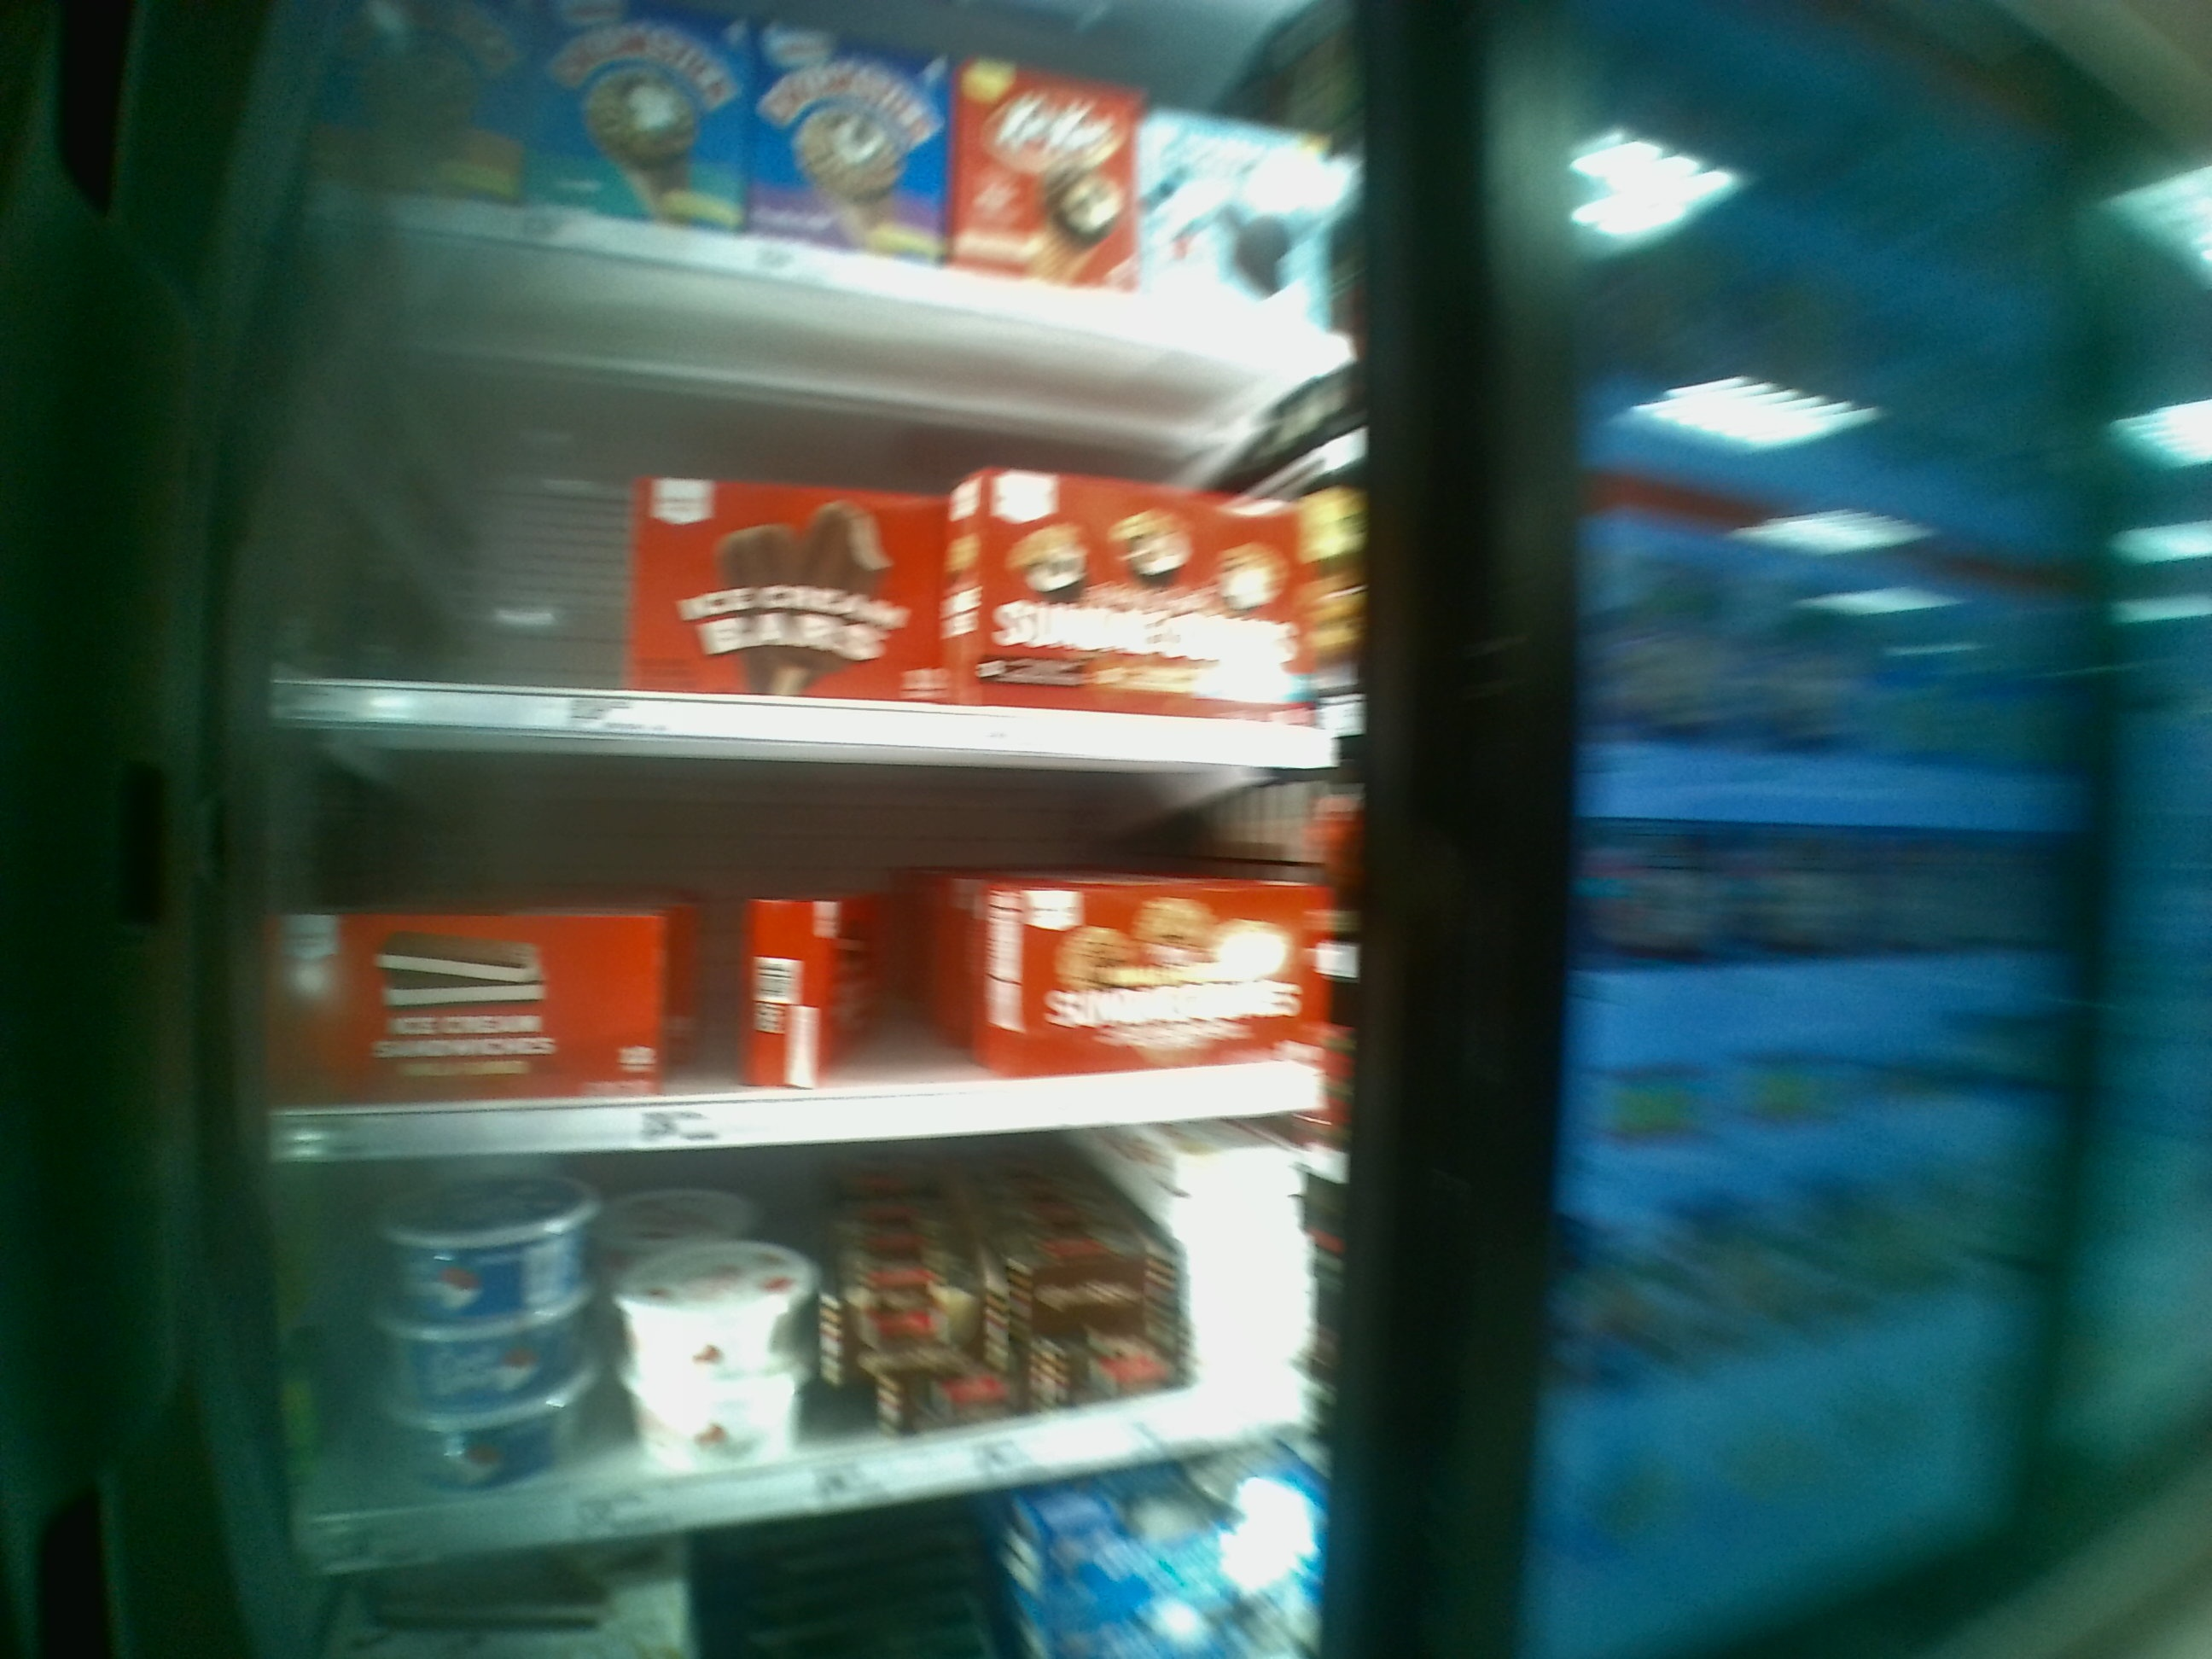shelf: (284, 220, 1367, 763), (261, 718, 1355, 1155), (270, 1159, 1348, 1588)
